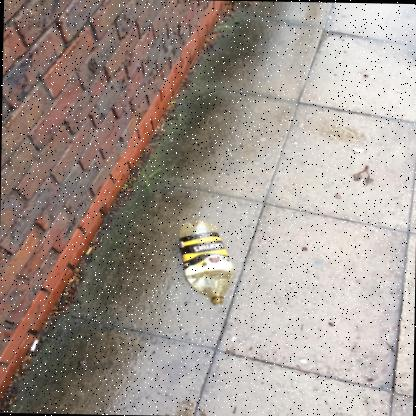Cigarette: (30, 339, 38, 350), (85, 247, 92, 254)
Clear plastic bottle: (179, 220, 236, 304)
